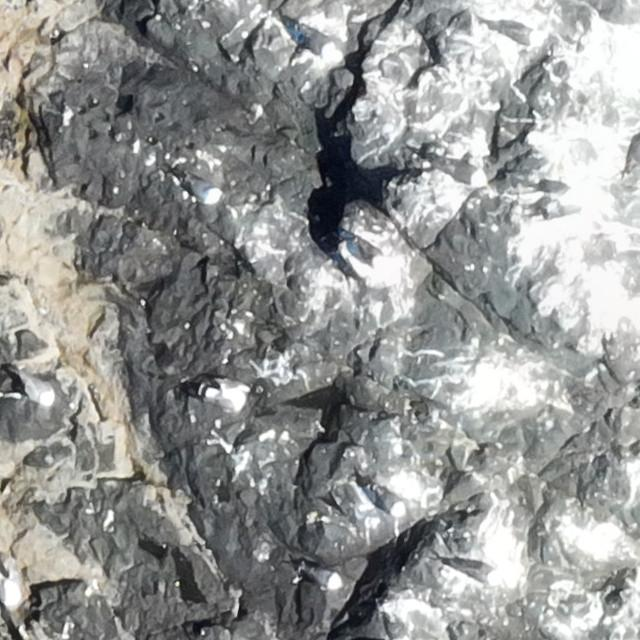umineko: (192, 382, 248, 415), (16, 367, 56, 409), (440, 158, 489, 189), (496, 26, 551, 52), (302, 34, 348, 64), (354, 245, 392, 276), (373, 490, 410, 521), (187, 178, 224, 206), (300, 567, 340, 588)
